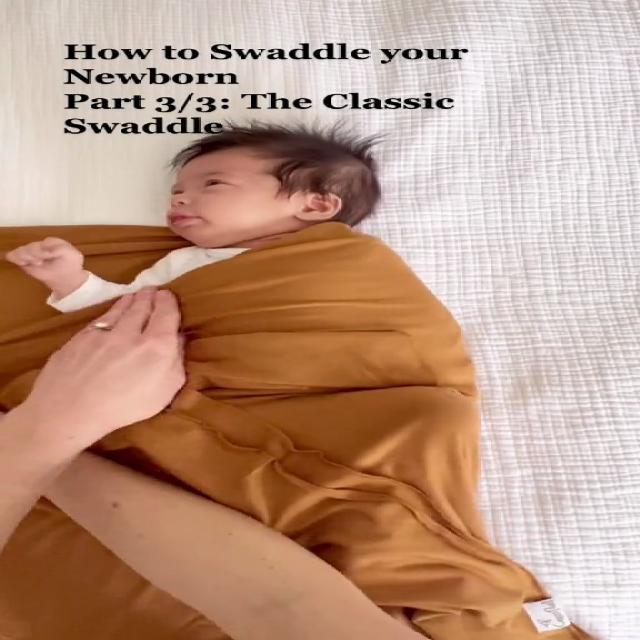baby: (14, 127, 510, 595)
